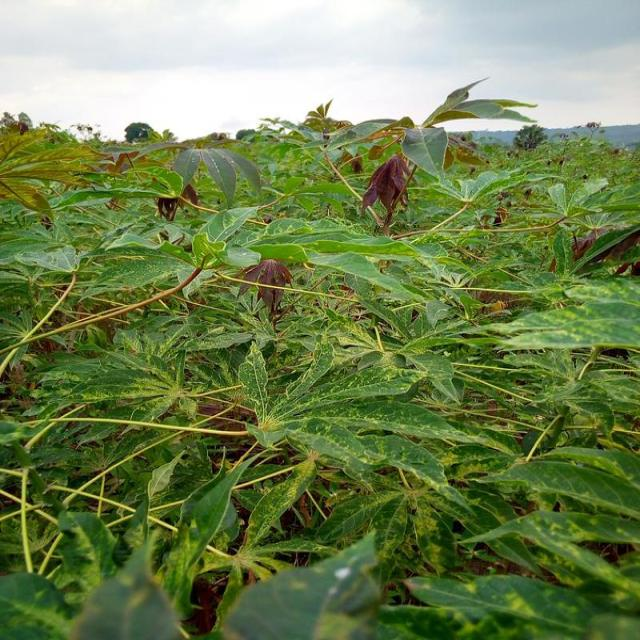cassava leaf: (0, 82, 638, 638), (400, 125, 448, 180)
